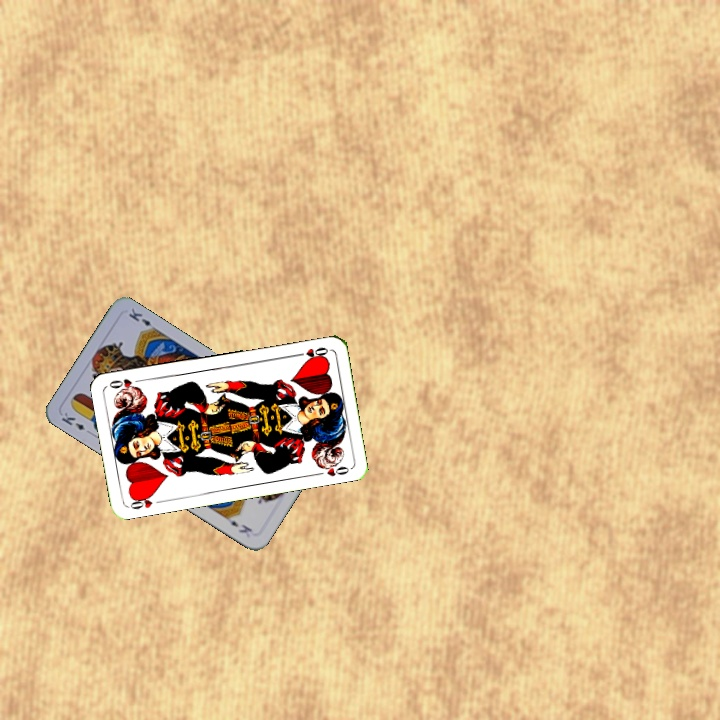EK: (57, 408, 95, 437)
HO: (125, 490, 166, 512), (291, 343, 331, 361)
